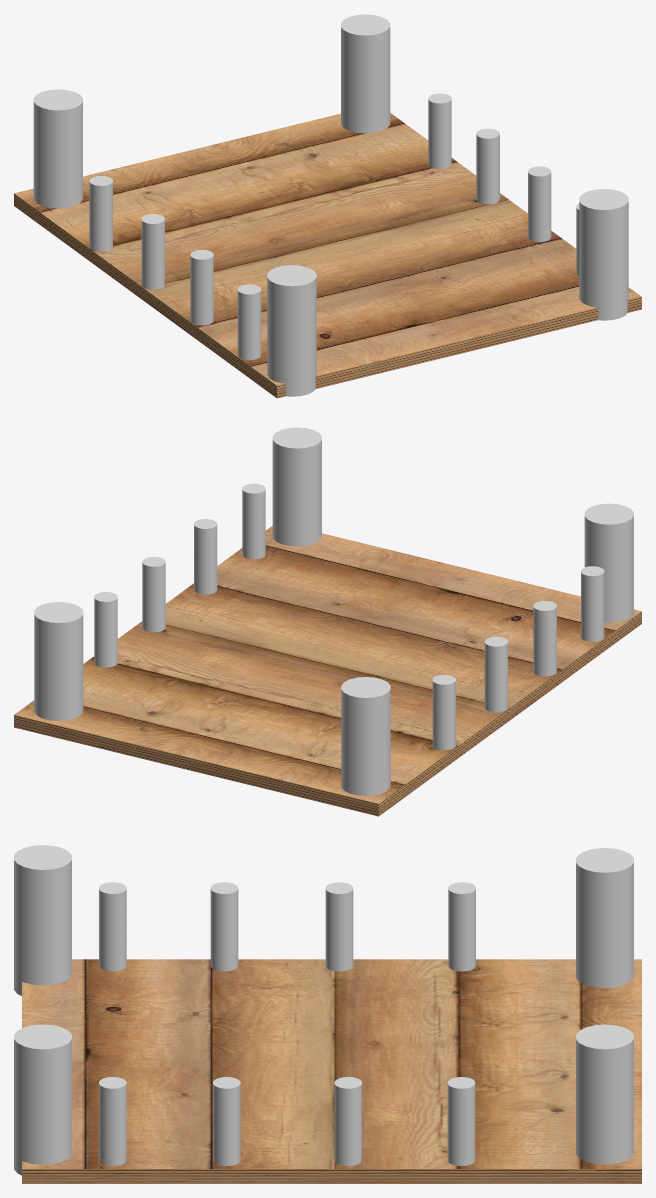
File: most2.FBX
The picture shows the model from 3 angles, top to bottom: view 1: azimuth 30°, elevation 25°; view 2: azimuth 150°, elevation 25°; view 3: azimuth 270°, elevation 25°; orthographic projection. The views are drawn at different scales.
Parts seen in each view (by area): view 1: Box001, Cylinder001, Cylinder002, Cylinder004, Cylinder003, Cylinder008, Cylinder011, Cylinder007, Cylinder006, Cylinder012, Cylinder005, Cylinder010; view 2: Box001, Cylinder002, Cylinder004, Cylinder003, Cylinder001, Cylinder009, Cylinder005, Cylinder010, Cylinder011, Cylinder012, Cylinder008, Cylinder006 (+1 smaller); view 3: Box001, Cylinder001, Cylinder002, Cylinder003, Cylinder004, Cylinder006, Cylinder007, Cylinder012, Cylinder008, Cylinder005, Cylinder010, Cylinder011 (+1 smaller).
Boxes of the visible parts, x1,y1,x2,y2 form: Box001: [14, 113, 641, 398]; Cylinder001: [267, 265, 316, 396]; Cylinder002: [579, 189, 628, 320]; Cylinder004: [33, 89, 82, 208]; Cylinder003: [341, 14, 390, 133]; Cylinder008: [237, 284, 261, 359]; Cylinder011: [476, 128, 499, 204]; Cylinder007: [190, 249, 213, 325]; Cylinder006: [141, 214, 164, 289]; Cylinder012: [428, 93, 451, 169]; Cylinder005: [89, 176, 112, 251]; Cylinder010: [528, 166, 551, 241]; Box001: [14, 526, 641, 816]; Cylinder002: [272, 427, 321, 546]; Cylinder004: [341, 677, 390, 795]; Cylinder003: [34, 602, 83, 720]; Cylinder001: [584, 503, 633, 622]; Cylinder009: [242, 483, 265, 559]; Cylinder005: [432, 674, 455, 750]; Cylinder010: [194, 519, 217, 594]; Cylinder011: [142, 556, 165, 632]; Cylinder012: [94, 592, 117, 667]; Cylinder008: [581, 566, 604, 641]; Cylinder006: [484, 636, 507, 712]; Box001: [22, 959, 641, 1183]; Cylinder001: [14, 845, 71, 995]; Cylinder002: [14, 1024, 71, 1175]; Cylinder003: [576, 1024, 633, 1164]; Cylinder004: [576, 848, 633, 988]; Cylinder006: [325, 882, 353, 971]; Cylinder007: [210, 882, 238, 971]; Cylinder012: [447, 1077, 475, 1165]; Cylinder008: [99, 882, 126, 971]; Cylinder005: [448, 882, 475, 971]; Cylinder010: [213, 1077, 240, 1165]; Cylinder011: [334, 1077, 361, 1165].
Bounding box in the file's own units: 63.44 × 18.37 × 80.27.
Materials: 1 (1 with a texture image).
